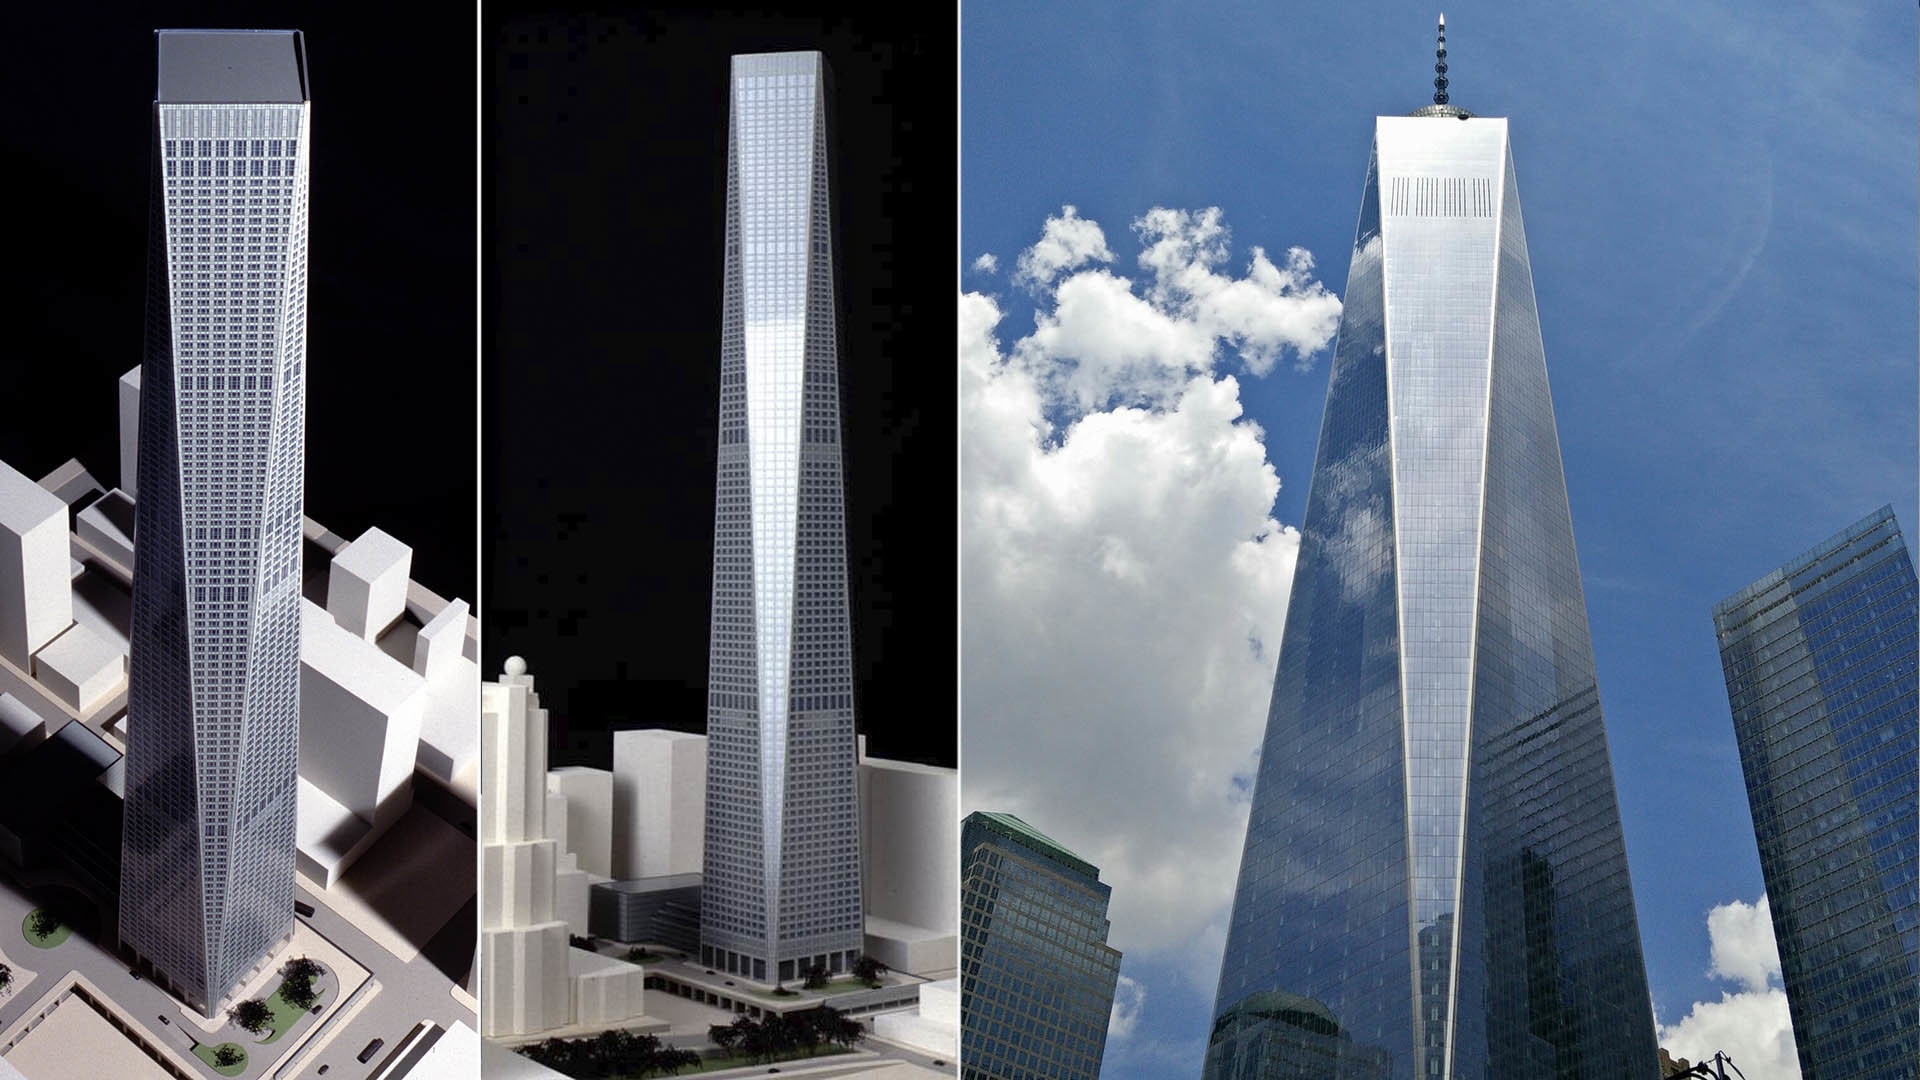wtc: (1246, 3, 1636, 1079)
